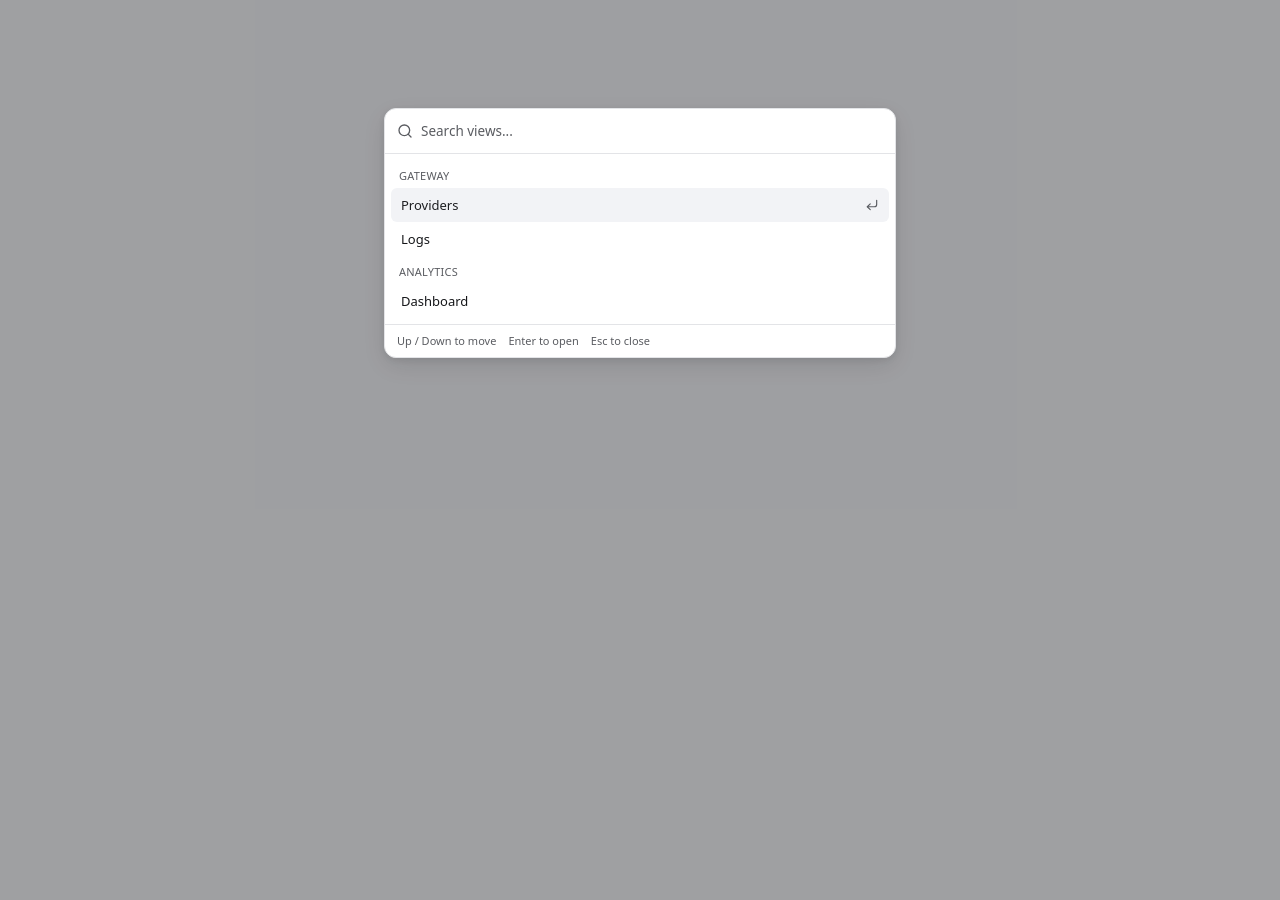
Test: CommandPalette › shows an empty message when nothing matches
Type "zzzz" into the field named "Command menu" at {"x": 652, "y": 131}, box 421,109 -> 883,153
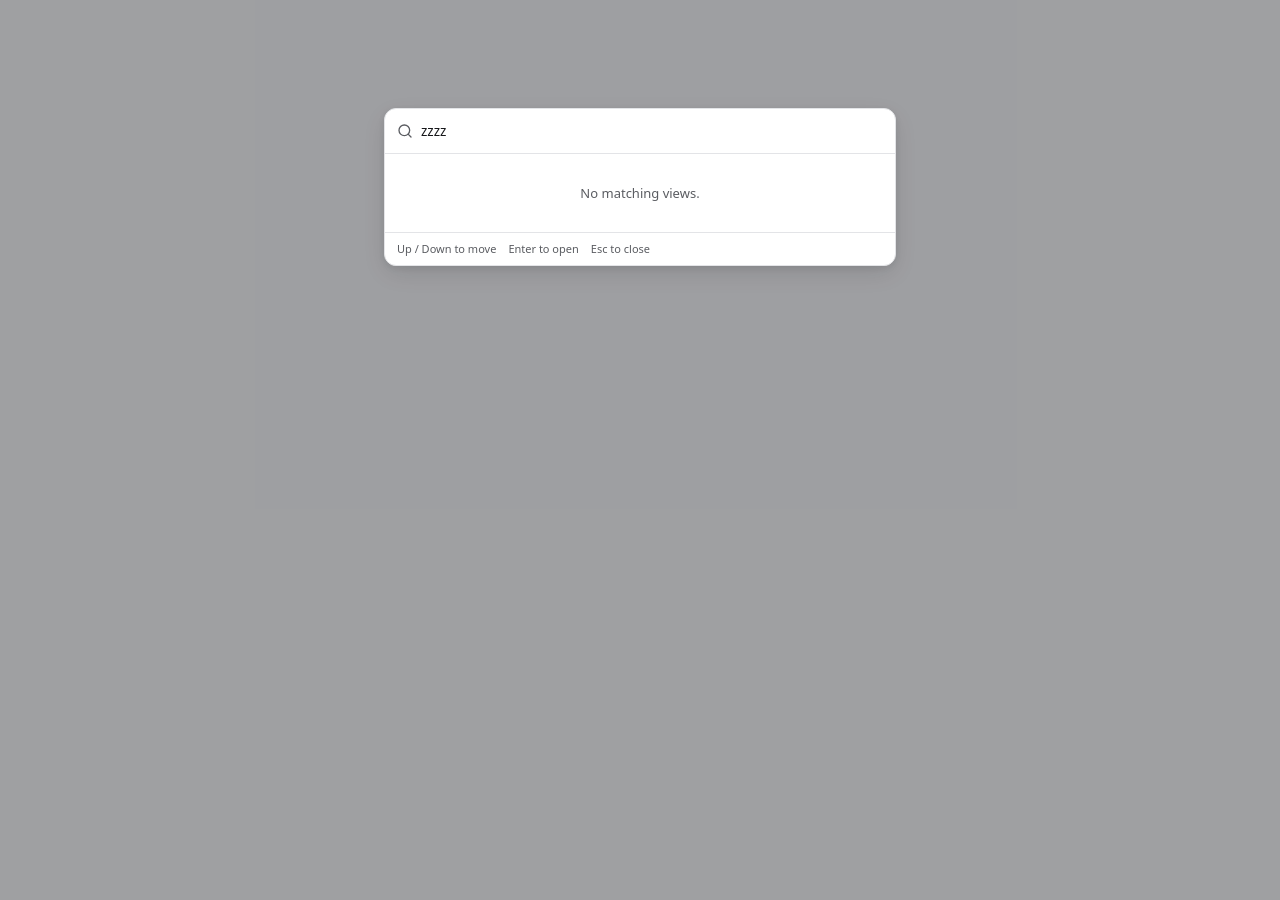
Expected: the list item "No matching views." is shown, 580,184 -> 700,202
